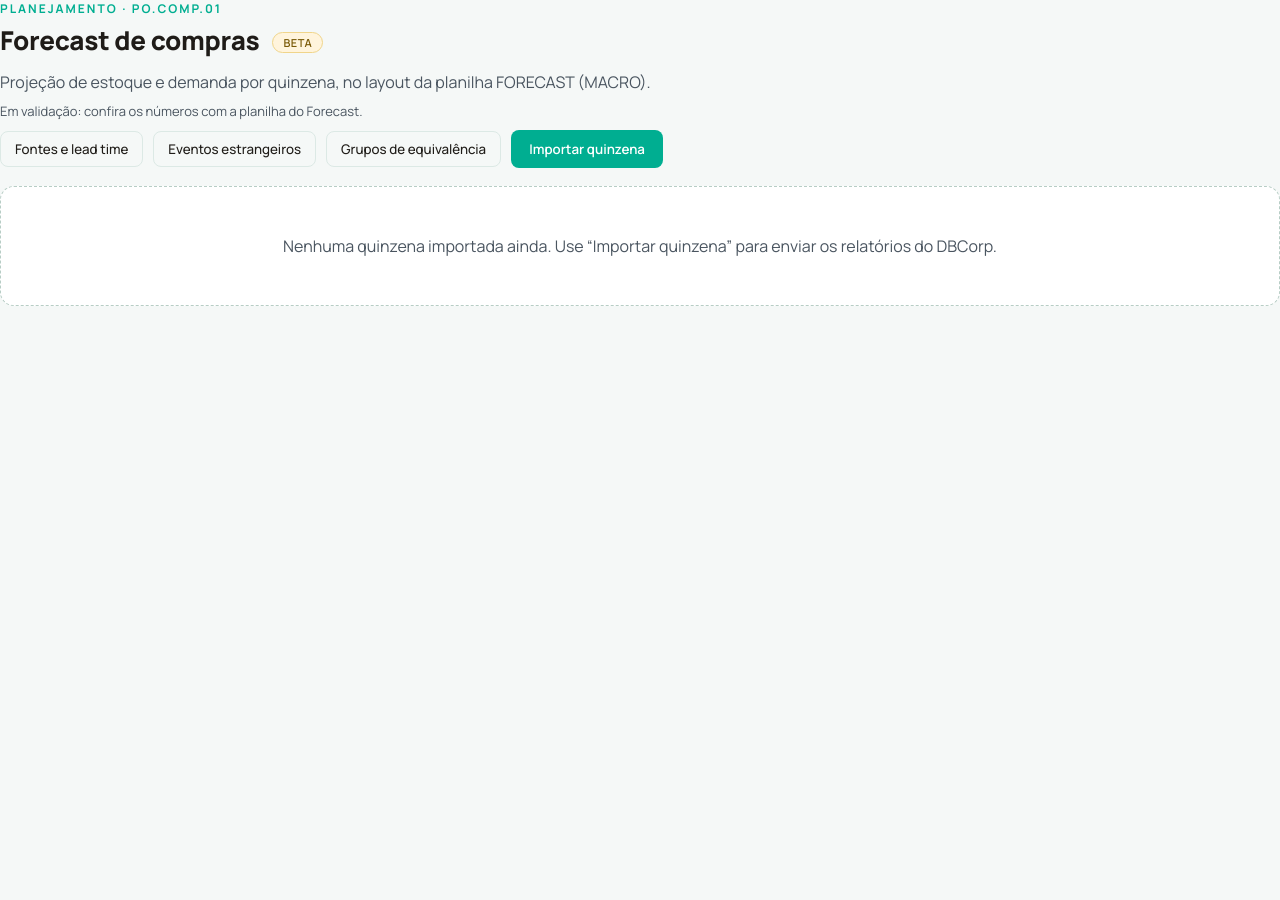
botao "Eventos estrangeiros" no cabecalho do Forecast › admin abre o dialogo direto na aba de eventos (edicao: true)
The image size is (1280, 900).
expect the text "Nenhuma quinzena importada ainda." is shown: met, box [283,234,997,256]
Click the button "Eventos estrangeiros": (235, 148) [153,130,316,166]
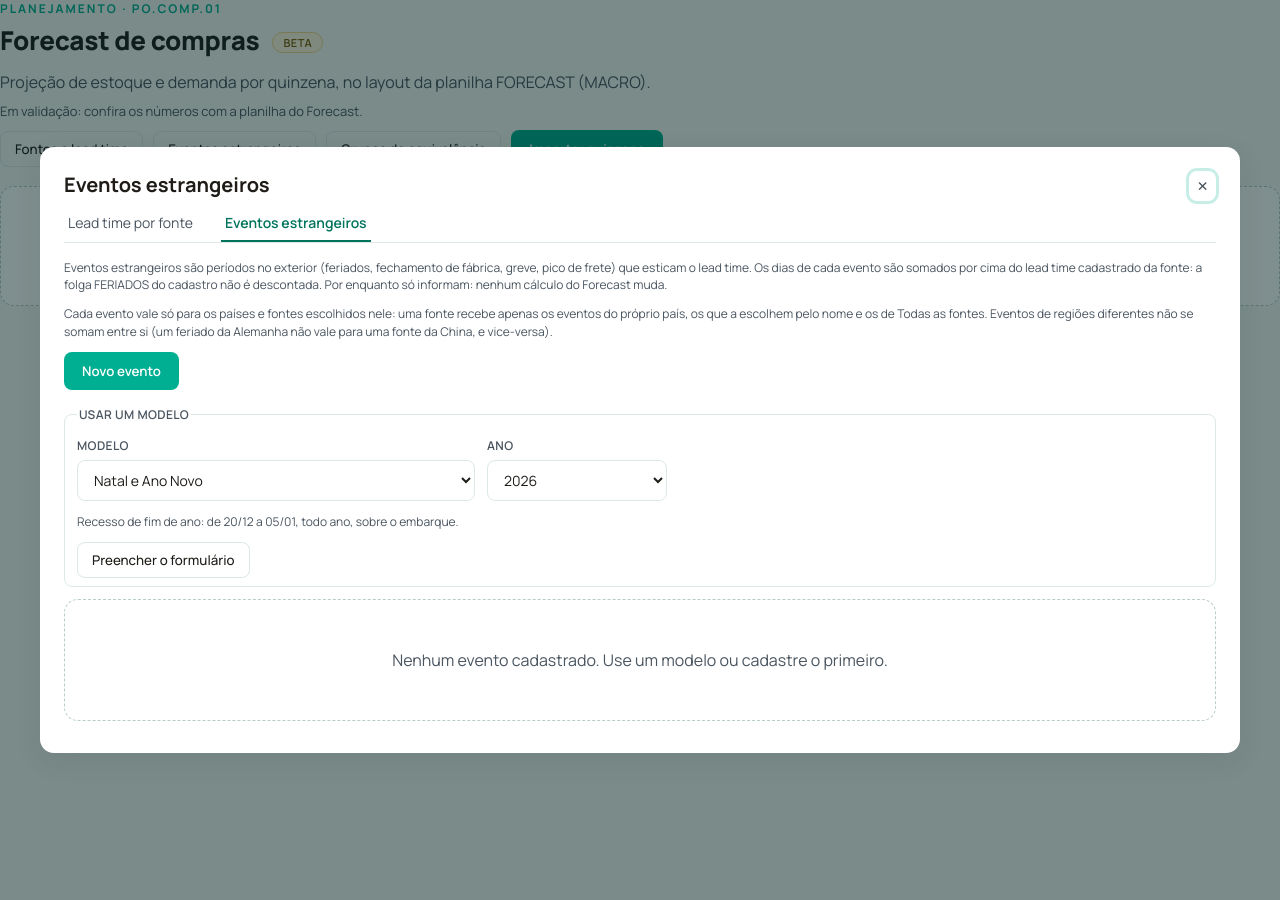
expect the heading "Eventos estrangeiros" is shown: met, box [64,170,270,198]
expect the text "Eventos estrangeiros são períodos" is shown: met, box [64,258,1202,293]
expect the button "Novo evento" is shown: met, box [64,352,179,390]
